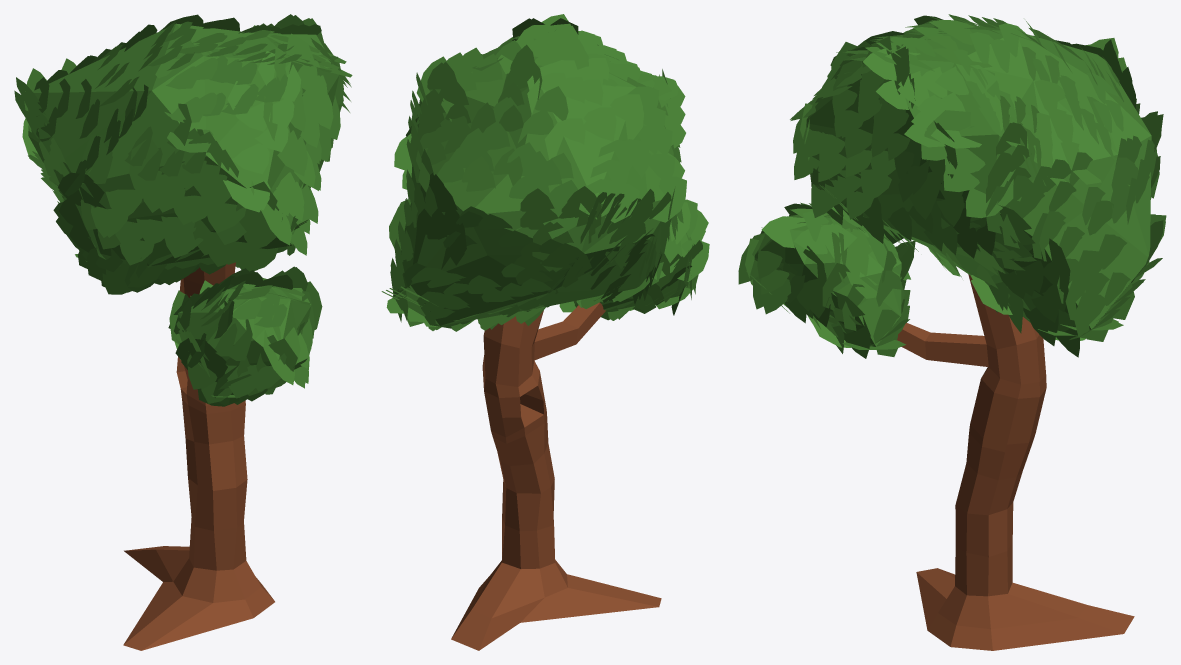
File: tree2.glb
3 renders of one model, left to right at view 1: azimuth 30°, elevation 25°; view 2: azimuth 150°, elevation 25°; view 3: azimuth 270°, elevation 25°, orthographic. The views are drawn at different scales.
Parts seen in each view (by area): view 1: foliage.002, particle.001 (×32), Cylinder.002; view 2: Cylinder.002, foliage.002, particle.001 (×25); view 3: Cylinder.002, foliage.002, particle.001 (×11).
Boxes of the visible parts, <box> form: foliage.002: <box>28,23,339,375</box>; particle.001 (×32): <box>58,35,315,391</box>; Cylinder.002: <box>123,262,274,650</box>; Cylinder.002: <box>451,302,661,650</box>; foliage.002: <box>392,38,691,325</box>; particle.001 (×25): <box>418,57,709,307</box>; Cylinder.002: <box>897,274,1134,650</box>; foliage.002: <box>754,20,1151,346</box>; particle.001 (×11): <box>761,57,1134,356</box>.
Size of the model in its own units: 2.28 by 4.51 by 2.93.
Materials: 1 (1 with a texture image).
